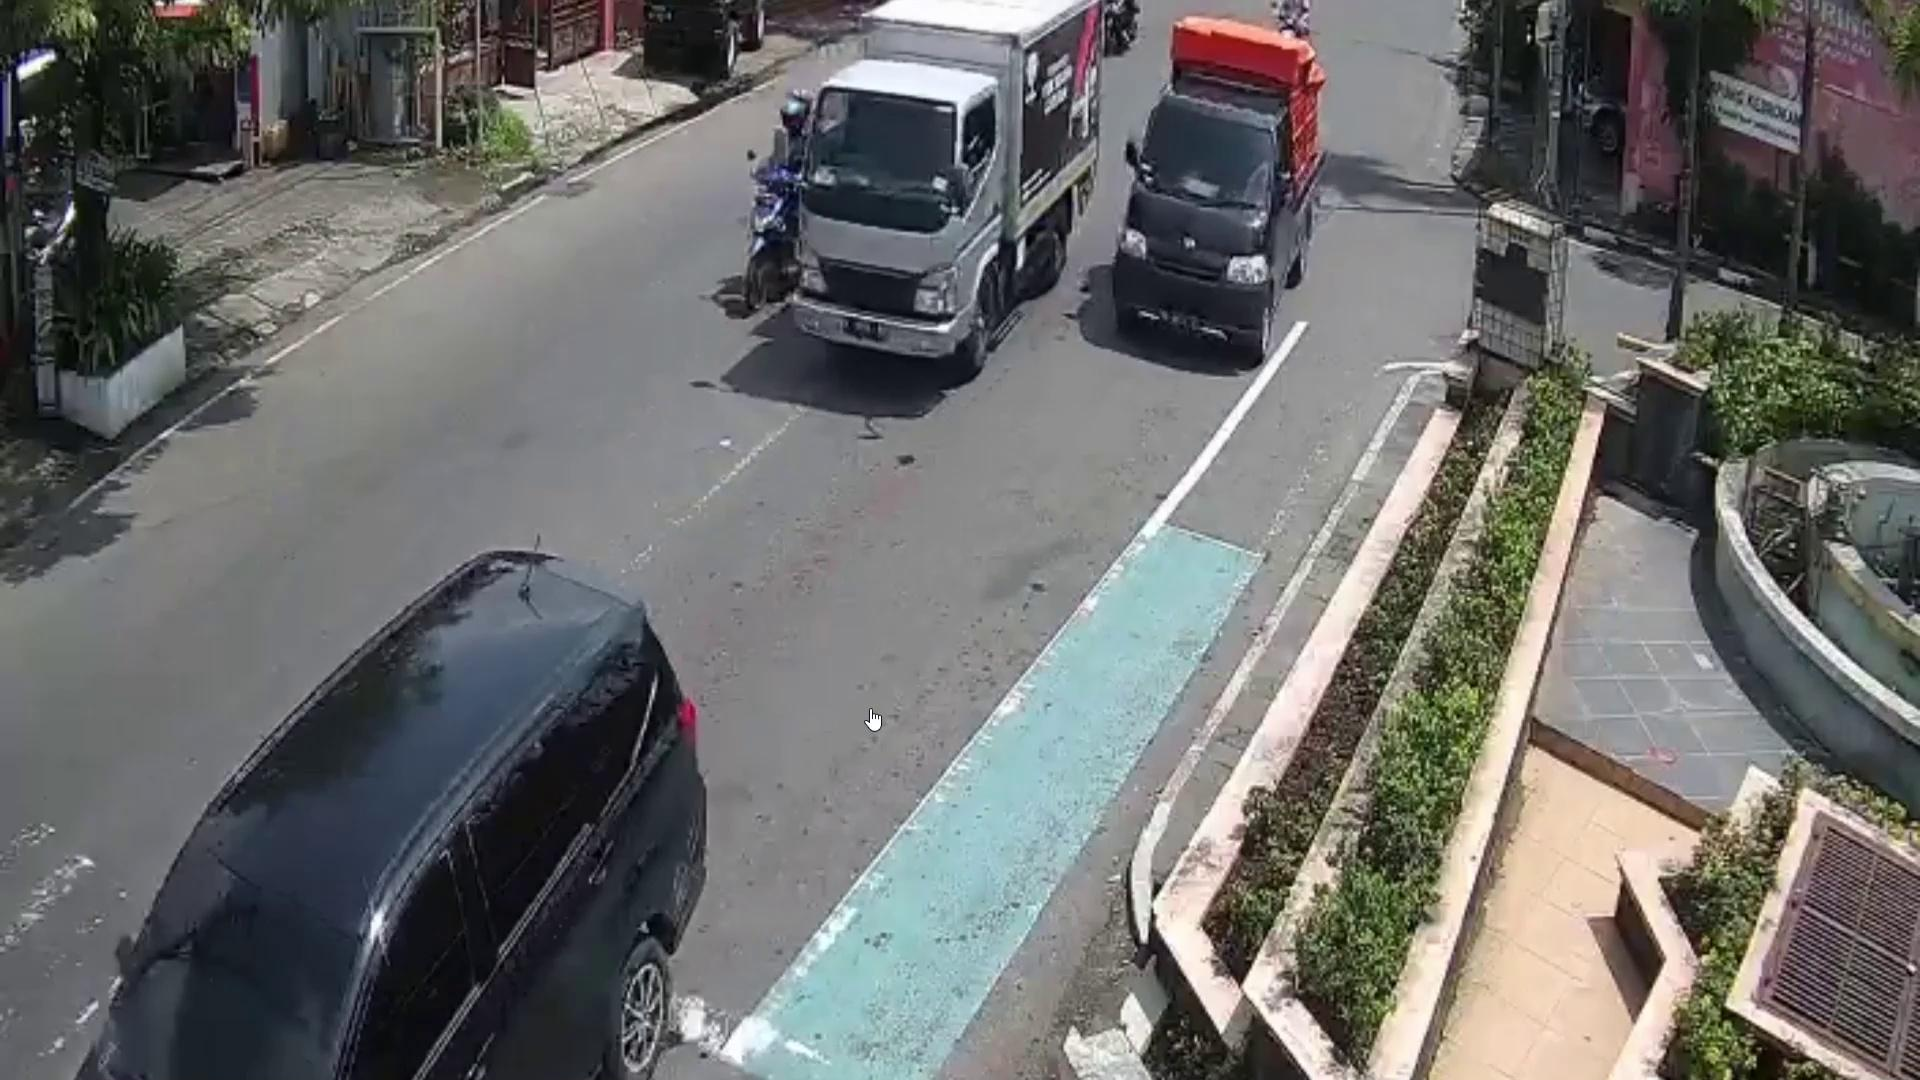car: (63, 550, 708, 1080), (1117, 70, 1320, 371)
truck: (793, 0, 1098, 377)
